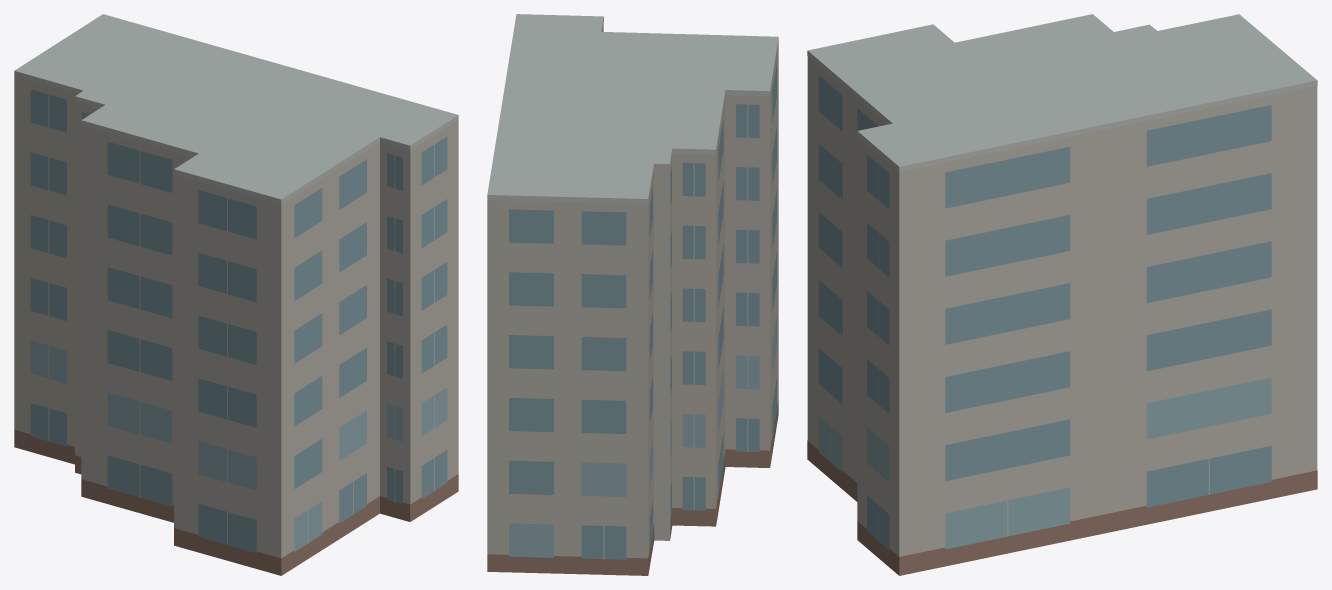
The model's file is survey-upis-32756735.glb.
3 renders of one model, left to right at view 1: azimuth 30°, elevation 25°; view 2: azimuth 150°, elevation 25°; view 3: azimuth 270°, elevation 25°, orthographic. The views are drawn at different scales.
Parts seen in each view (by area): view 1: survey-upis-32756735.tmp; view 2: survey-upis-32756735.tmp; view 3: survey-upis-32756735.tmp.
Boxes of the visible parts, x1,y1,x2,y2 form: survey-upis-32756735.tmp: [14, 14, 458, 575]; survey-upis-32756735.tmp: [487, 14, 778, 575]; survey-upis-32756735.tmp: [807, 14, 1317, 575].
Size of the model in its own units: 14.68 by 18.3 by 20.69.
